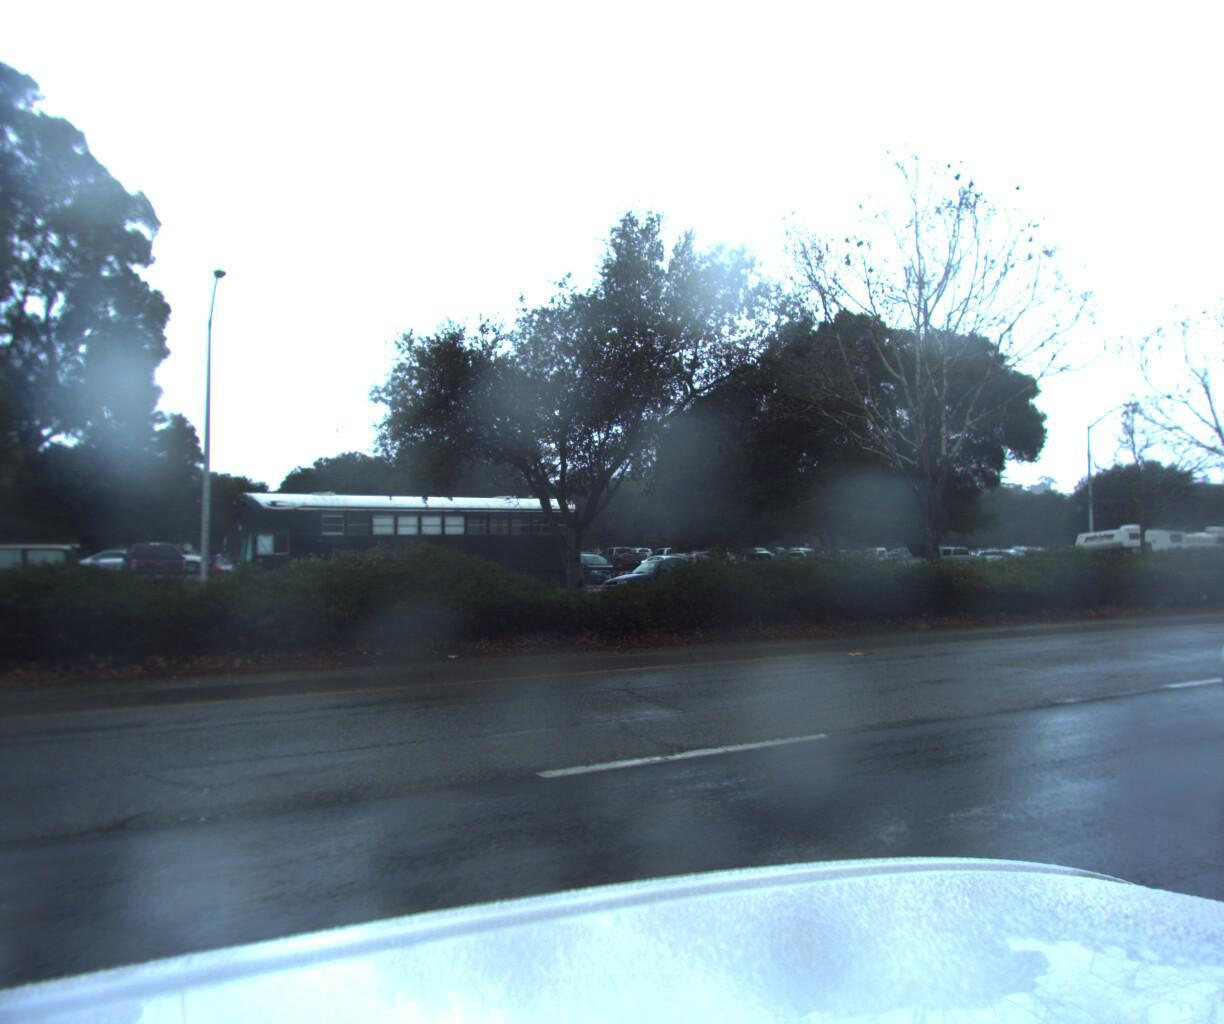bus: (212, 481, 589, 619)
car: (1188, 530, 1224, 795), (0, 537, 90, 633), (594, 555, 738, 609), (117, 537, 193, 593), (910, 541, 1000, 574), (549, 551, 626, 587)
other_vehicle: (1065, 521, 1188, 587), (1152, 523, 1224, 584)
